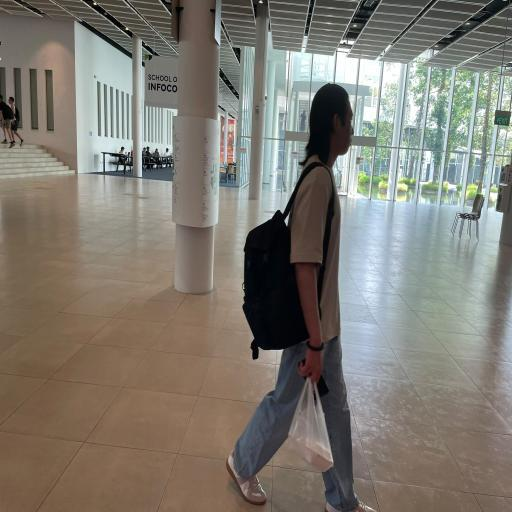person_left: (5, 90, 23, 150)
person_right: (246, 84, 373, 512)
